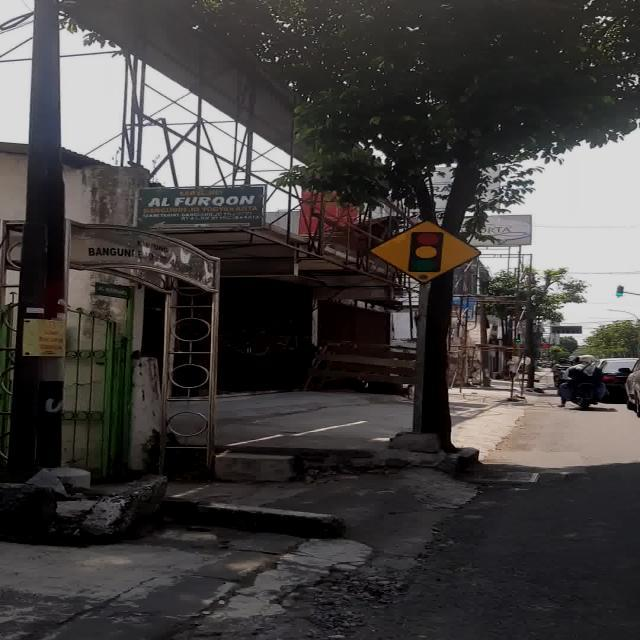Lampu Lalu Lintas: (369, 220, 481, 284)
